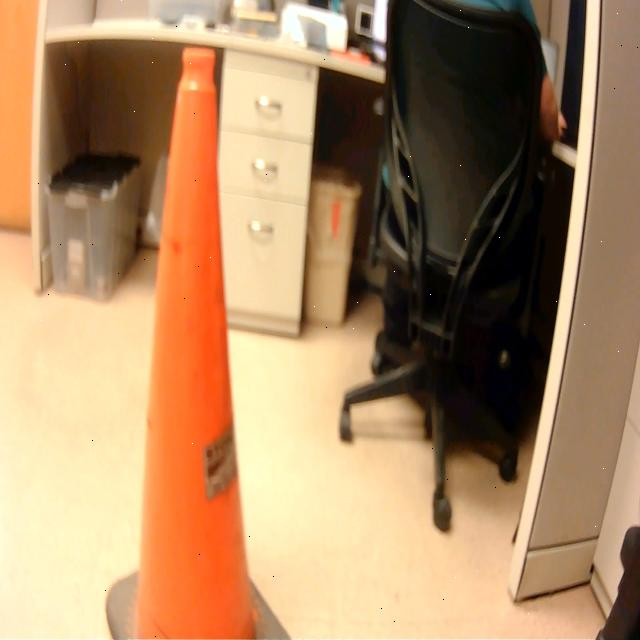traffic cone: (100, 38, 296, 640)
